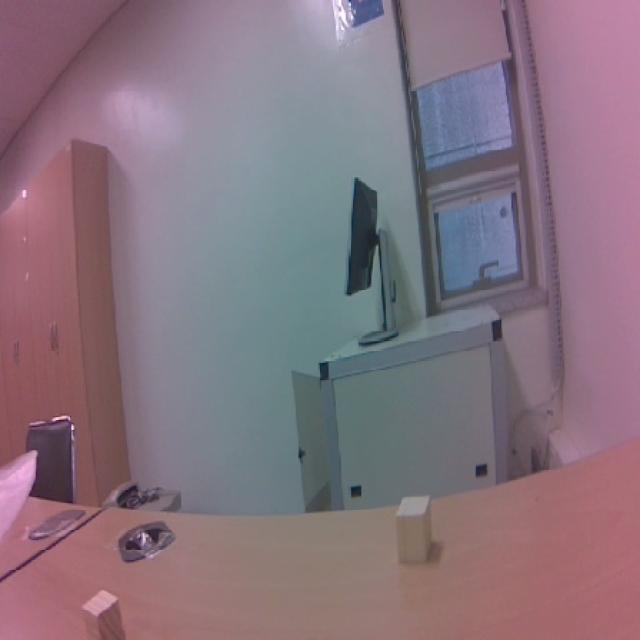obstacle: (386, 488, 454, 574)
